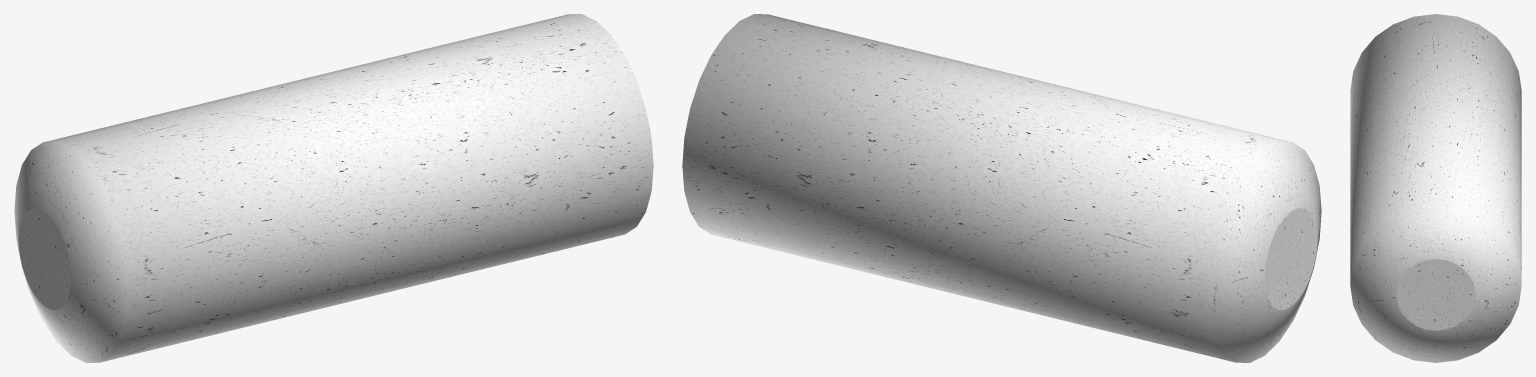
Rendered from TankRustHorizontal.fbx.
3 views of the same model, side by side, from view 1: azimuth 30°, elevation 25°; view 2: azimuth 150°, elevation 25°; view 3: azimuth 270°, elevation 25° (orthographic). The views are drawn at different scales.
Visible parts, largest first — view 1: Tank; view 2: Tank; view 3: Tank.
Boxes of the visible parts, x1,y1,x2,y2 form: Tank: (14, 14, 653, 362); Tank: (682, 14, 1321, 362); Tank: (1350, 14, 1521, 362).
Bounding box in the file's own units: 880 × 300 × 300.
Materials: 1 (1 with a texture image).
